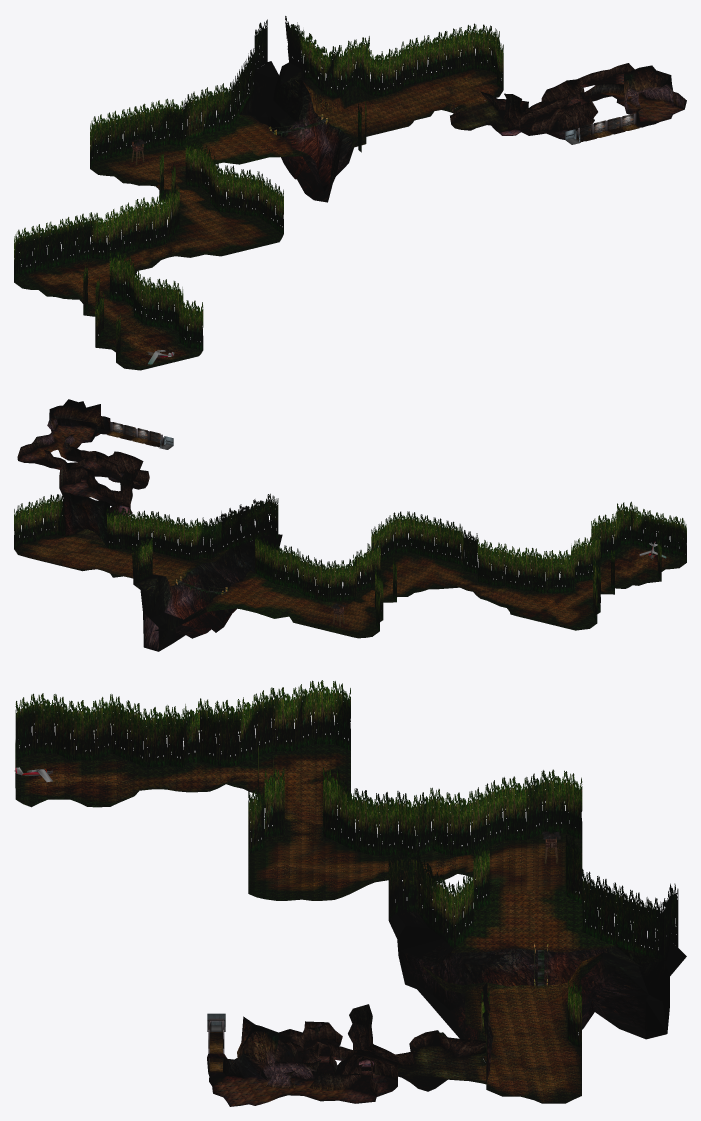
The model's file is Jungle.glb.
The picture shows the model from 3 angles, top to bottom: view 1: azimuth 30°, elevation 25°; view 2: azimuth 150°, elevation 25°; view 3: azimuth 270°, elevation 25°; orthographic projection. The views are drawn at different scales.
Visible parts, largest first — view 1: Jungle_14, Jungle_44, Jungle_Alpha_32, Jungle_Alpha_30, Jungle_Alpha_31, Jungle_Alpha_29, Jungle_Alpha_33, Jungle_Alpha_34, Jungle_49; view 2: Jungle_14, Jungle_44, Jungle_Alpha_32, Jungle_Alpha_31, Jungle_Alpha_30, Jungle_Alpha_29, Jungle_Alpha_33, Jungle_Alpha_34, Jungle_49; view 3: Jungle_14, Jungle_44, Jungle_Alpha_31, Jungle_Alpha_29, Jungle_Alpha_32, Jungle_Alpha_30, Jungle_Alpha_33, Jungle_Alpha_34, Jungle_49.
Boxes of the visible parts, <box> form: Jungle_14: <box>14,68,522,370</box>; Jungle_44: <box>239,61,686,202</box>; Jungle_Alpha_32: <box>16,30,499,344</box>; Jungle_Alpha_30: <box>16,47,499,358</box>; Jungle_Alpha_31: <box>14,35,503,347</box>; Jungle_Alpha_29: <box>14,50,503,361</box>; Jungle_Alpha_33: <box>14,19,503,332</box>; Jungle_Alpha_34: <box>16,16,499,329</box>; Jungle_49: <box>499,73,684,139</box>; Jungle_14: <box>14,519,686,638</box>; Jungle_44: <box>17,399,282,651</box>; Jungle_Alpha_32: <box>14,506,686,616</box>; Jungle_Alpha_31: <box>17,507,684,613</box>; Jungle_Alpha_30: <box>14,520,686,630</box>; Jungle_Alpha_29: <box>17,520,684,627</box>; Jungle_Alpha_33: <box>17,493,684,600</box>; Jungle_Alpha_34: <box>14,494,686,603</box>; Jungle_49: <box>18,425,147,515</box>; Jungle_14: <box>15,744,614,1103</box>; Jungle_44: <box>207,911,686,1096</box>; Jungle_Alpha_31: <box>15,701,678,1053</box>; Jungle_Alpha_29: <box>15,723,678,1047</box>; Jungle_Alpha_32: <box>24,701,675,1023</box>; Jungle_Alpha_30: <box>24,723,674,1044</box>; Jungle_Alpha_33: <box>15,680,678,1043</box>; Jungle_Alpha_34: <box>24,681,675,1002</box>; Jungle_49: <box>208,1039,397,1106</box>.
Size of the model in its own units: 291 by 58.12 by 194.
Materials: 73 (72 with a texture image).
